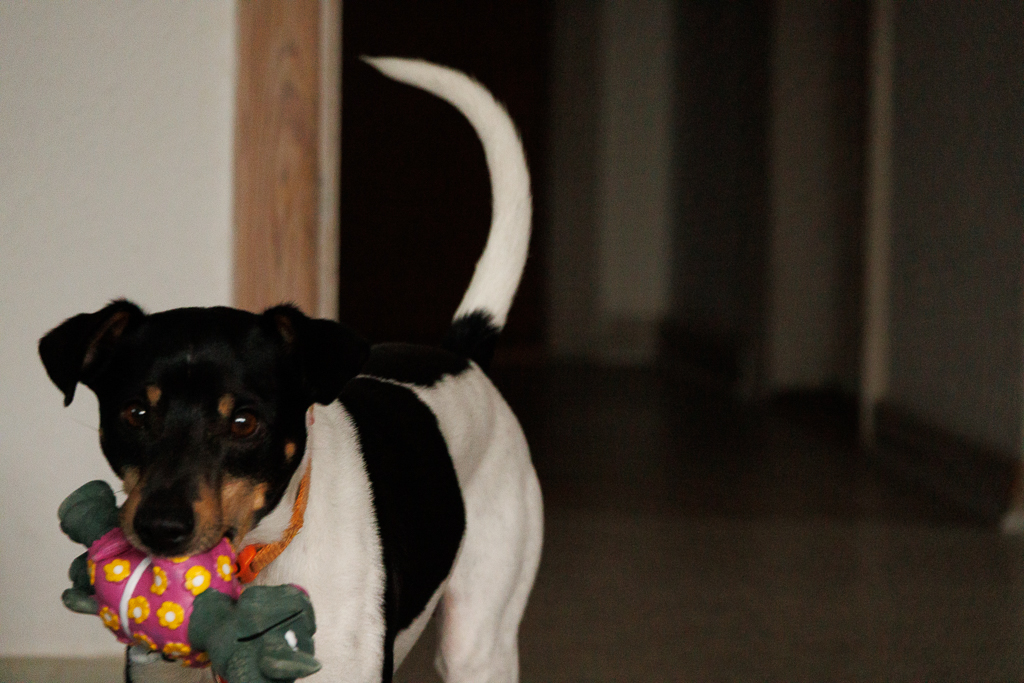Dog: (27, 47, 559, 683)
Humanoid: (42, 469, 335, 683)
